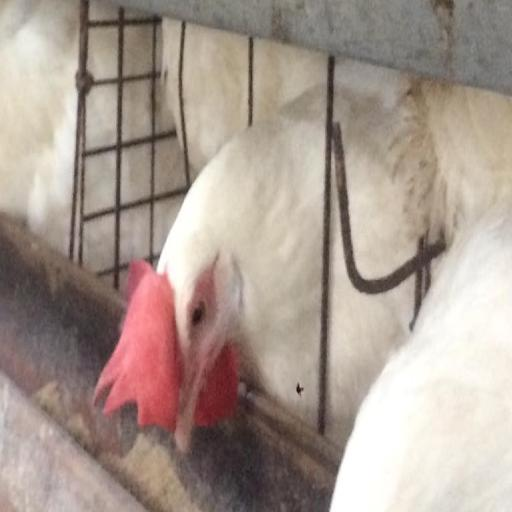healthy: (130, 232, 210, 410)
